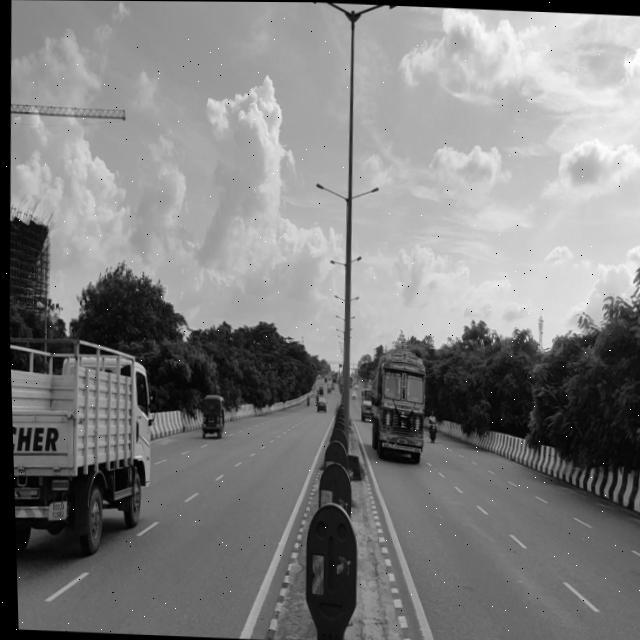truck: (8, 335, 156, 572), (362, 347, 429, 466)
